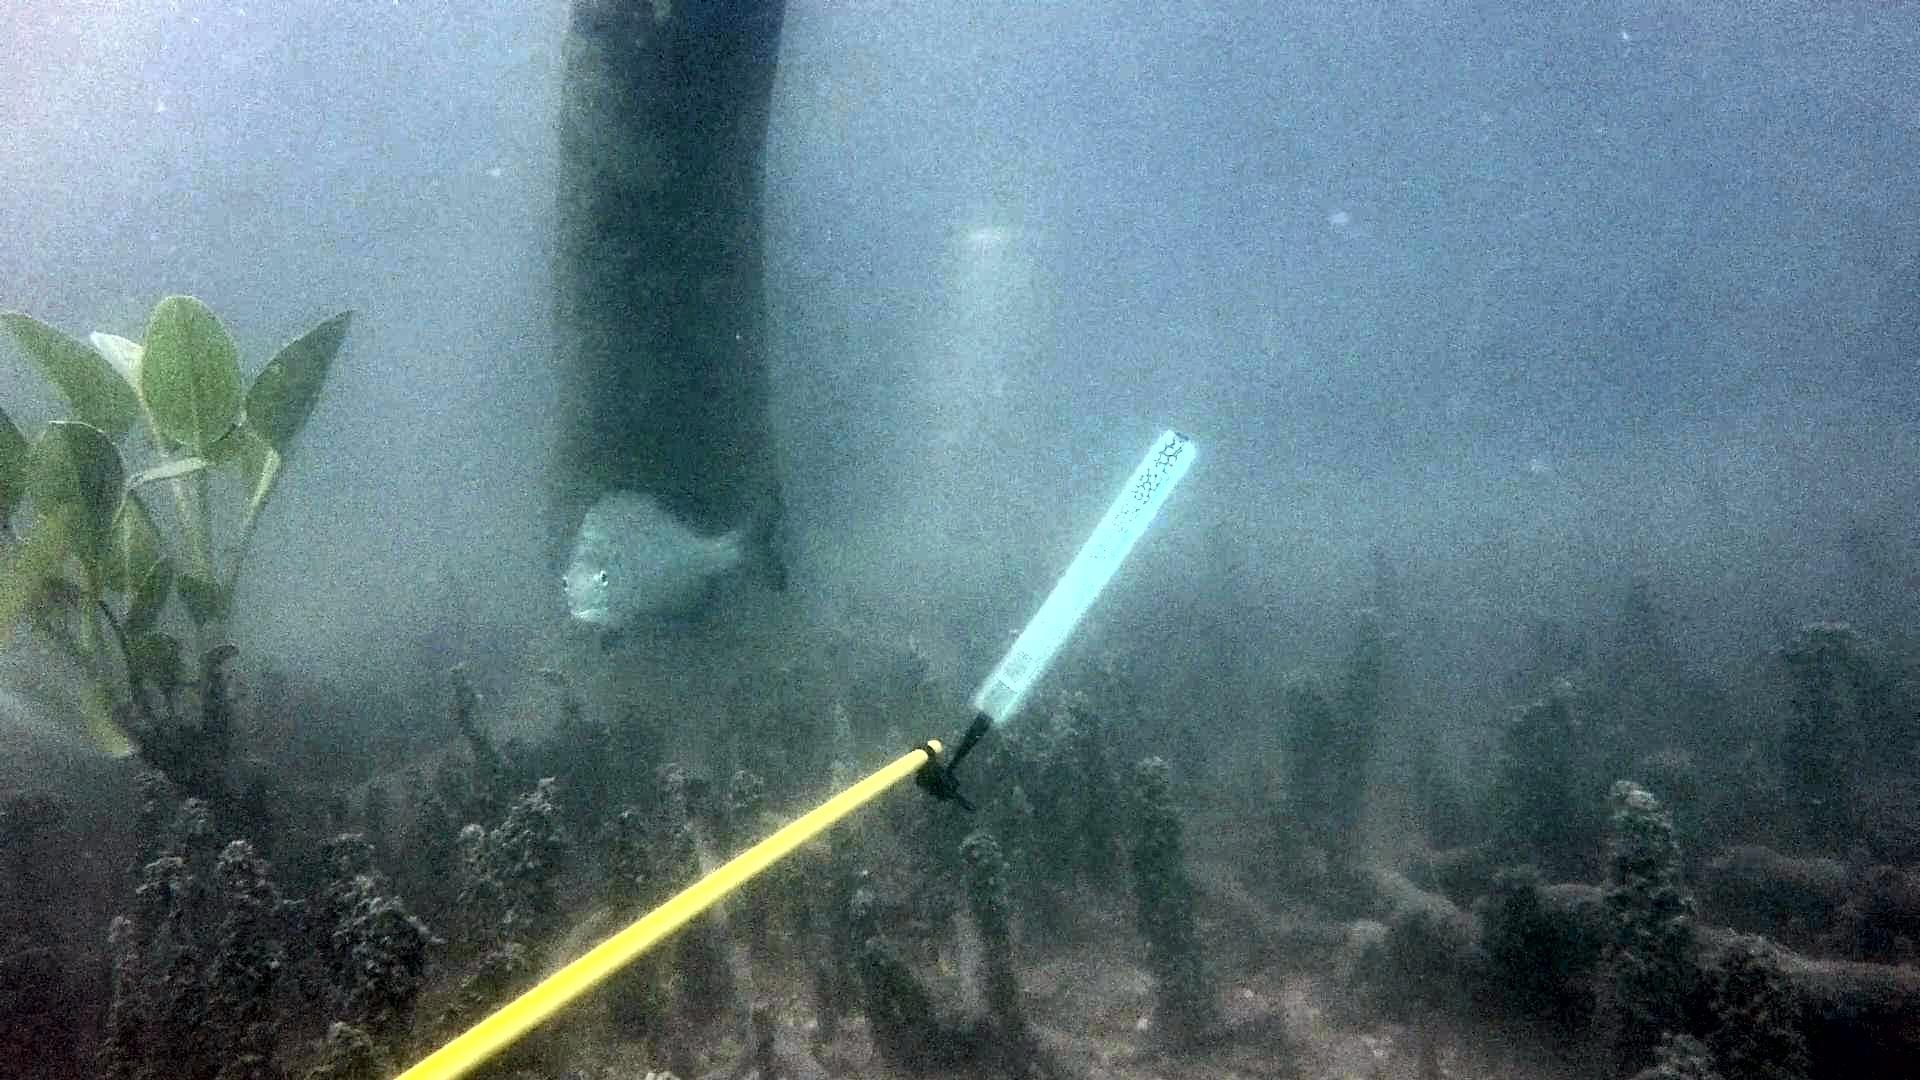acanthopagrus palmaris: (546, 473, 803, 638)
